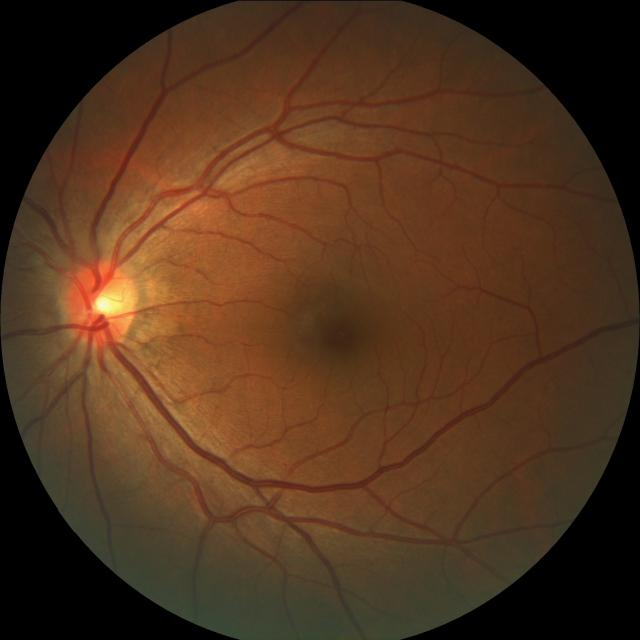OC: (84, 278, 130, 322)
OD: (65, 258, 139, 347)
